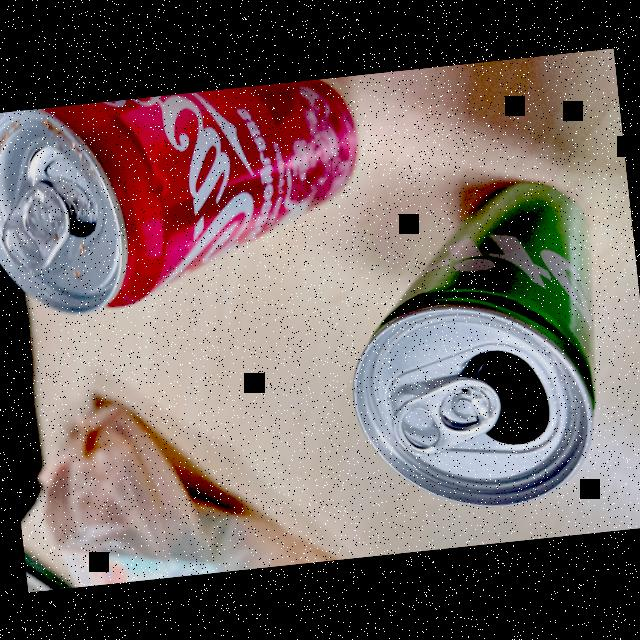can: (326, 151, 630, 534), (0, 75, 377, 335)
